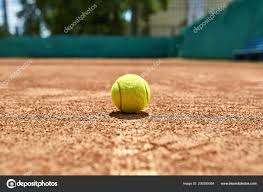tennis_ball: (110, 74, 150, 114)
